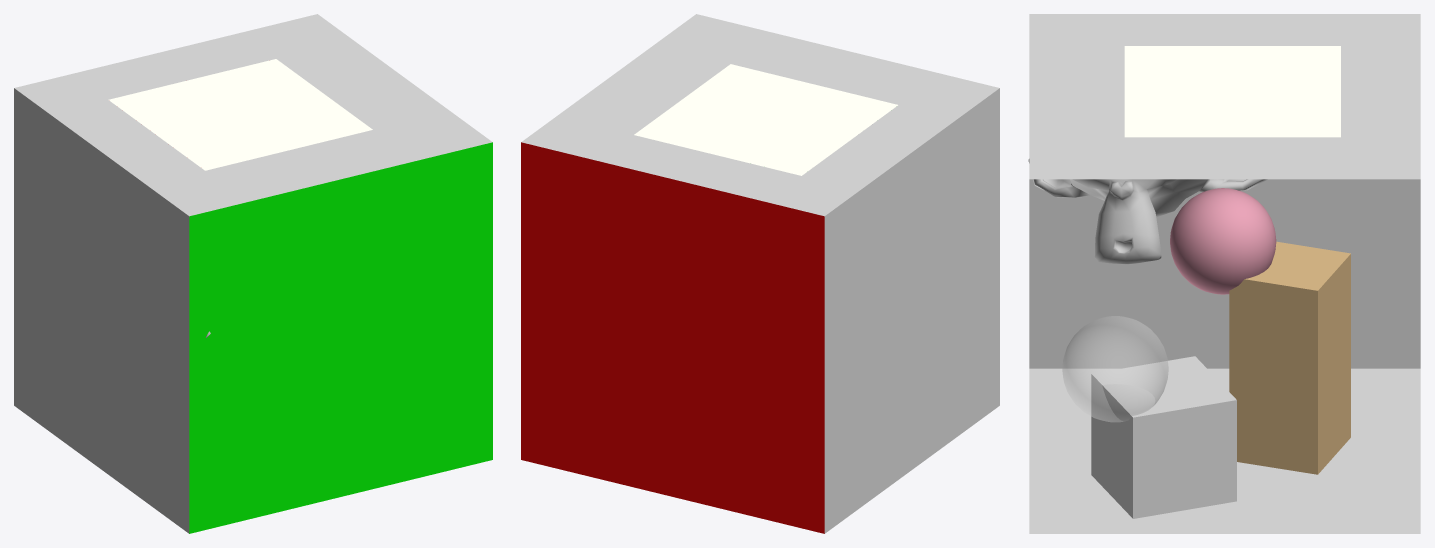
3 renders of one model, left to right at view 1: azimuth 30°, elevation 25°; view 2: azimuth 150°, elevation 25°; view 3: azimuth 270°, elevation 25°, orthographic. The views are drawn at different scales.
Parts seen in each view (by area): view 1: Plane.001, Plane.003, Plane.004, Plane.005_Plane.006; view 2: Plane.002, Plane.003, Plane.004, Plane.005_Plane.006; view 3: Plane.004, Plane.003, Plane, Cube.002, Cube.001, Plane.005_Plane.006, Sphere.001, Sphere, Suzanne.
Boxes of the visible parts, left/top/right/bottom form: Plane.001: left=189, top=142, right=492, bottom=533; Plane.003: left=14, top=88, right=189, bottom=533; Plane.004: left=14, top=14, right=492, bottom=216; Plane.005_Plane.006: left=108, top=59, right=372, bottom=170; Plane.002: left=521, top=142, right=824, bottom=533; Plane.003: left=824, top=88, right=999, bottom=533; Plane.004: left=521, top=14, right=999, bottom=216; Plane.005_Plane.006: left=634, top=64, right=897, bottom=175; Plane.004: left=1029, top=14, right=1420, bottom=179; Plane.003: left=1029, top=179, right=1420, bottom=368; Plane: left=1029, top=368, right=1420, bottom=533; Cube.002: left=1229, top=241, right=1350, bottom=474; Cube.001: left=1091, top=356, right=1236, bottom=518; Plane.005_Plane.006: left=1124, top=46, right=1340, bottom=137; Sphere.001: left=1062, top=316, right=1168, bottom=421; Sphere: left=1170, top=188, right=1276, bottom=294; Suzanne: left=1028, top=159, right=1267, bottom=264.
Bounding box in the file's own units: 1 × 1 × 1.01.
